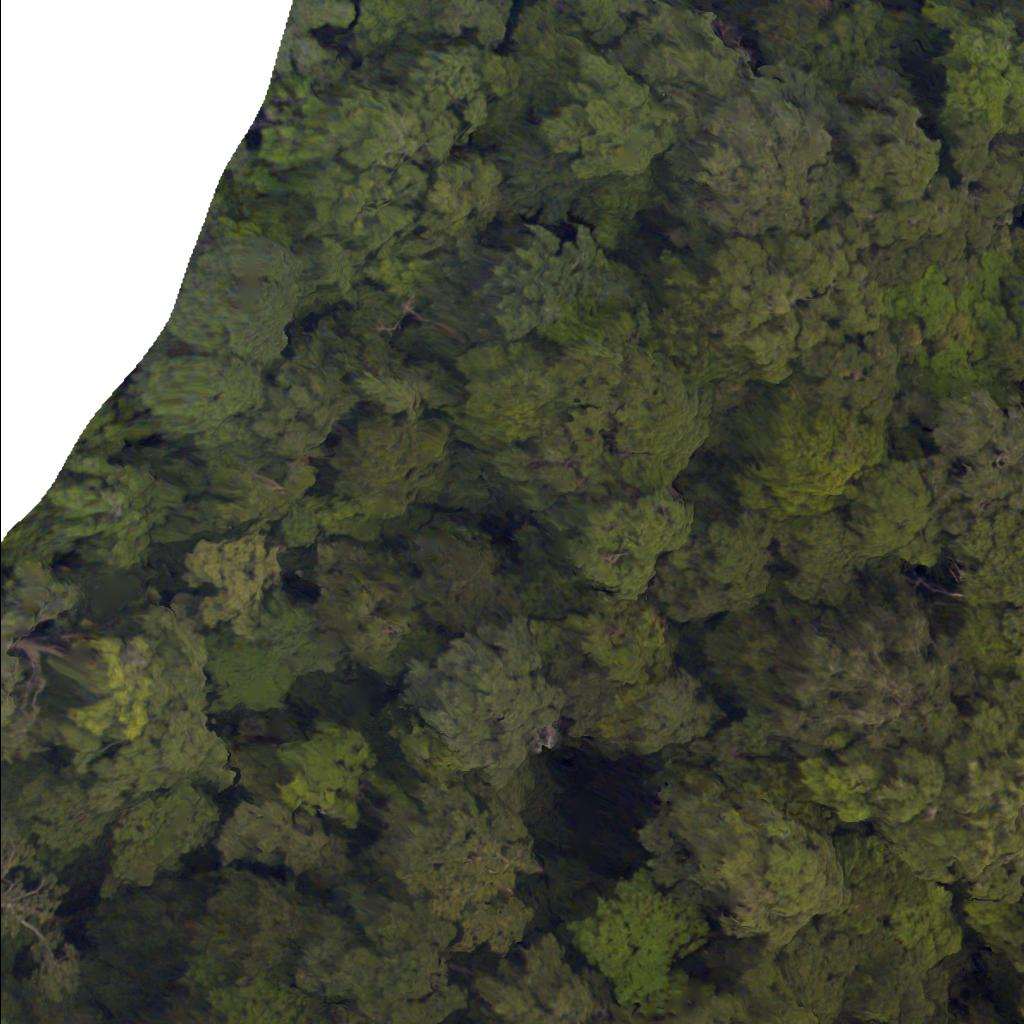crown: (873, 674, 1023, 905), (370, 784, 542, 958), (402, 614, 570, 791), (669, 795, 846, 949), (295, 892, 468, 1023), (737, 393, 894, 515), (597, 868, 705, 1000), (922, 385, 1023, 523), (661, 956, 823, 1023), (779, 917, 868, 1023), (845, 937, 950, 1023), (891, 881, 963, 968), (937, 1017, 995, 1023)
